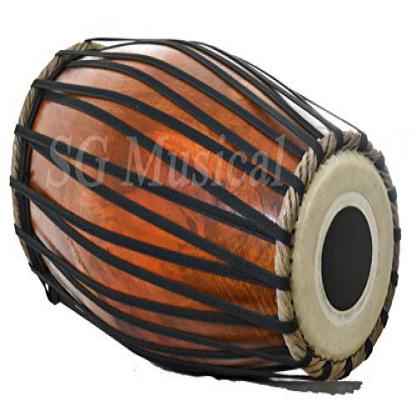Mridangam: (1, 36, 408, 389)
